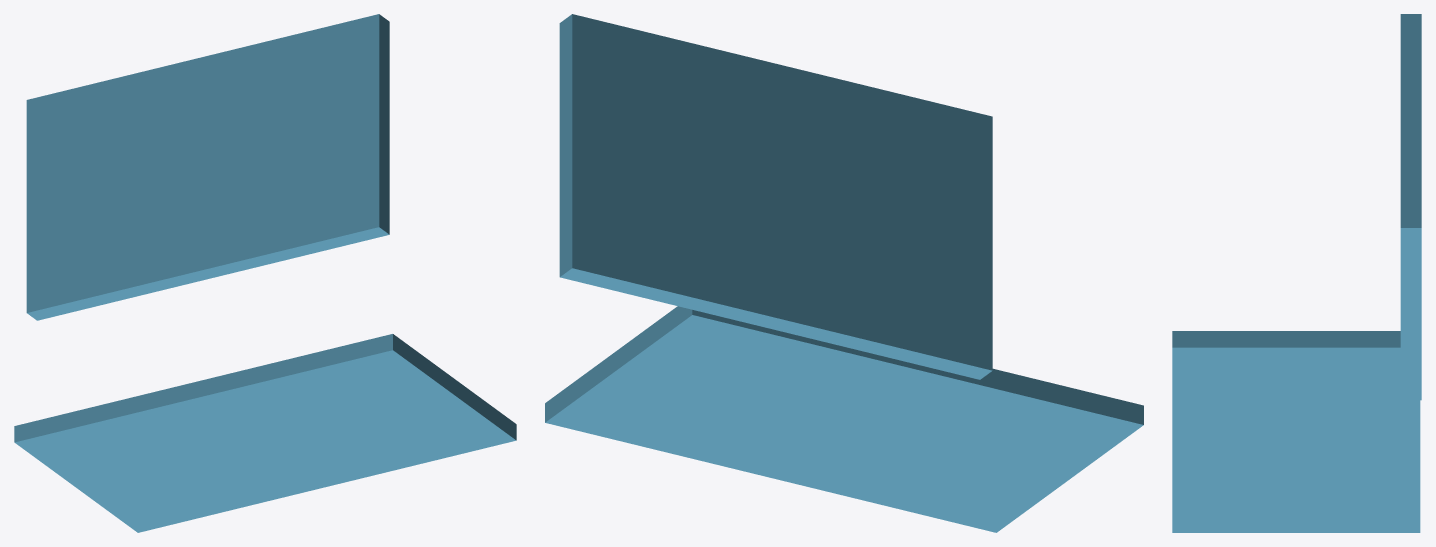
The model's file is portable-display.glb.
The picture shows the model from 3 angles, left to right: view 1: azimuth 30°, elevation 25°; view 2: azimuth 150°, elevation 25°; view 3: azimuth 270°, elevation 25°; orthographic projection. The views are drawn at different scales.
Visible parts, largest first — view 1: display, base; view 2: display, base; view 3: base, display.
Boxes of the visible parts, x1,y1,x2,y2 form: display: [26, 14, 389, 320]; base: [14, 334, 516, 532]; display: [559, 14, 992, 379]; base: [545, 306, 1143, 532]; base: [1172, 331, 1420, 532]; display: [1400, 14, 1421, 400].
Bounding box in the file's own units: 1.45 × 1.24 × 0.825.
